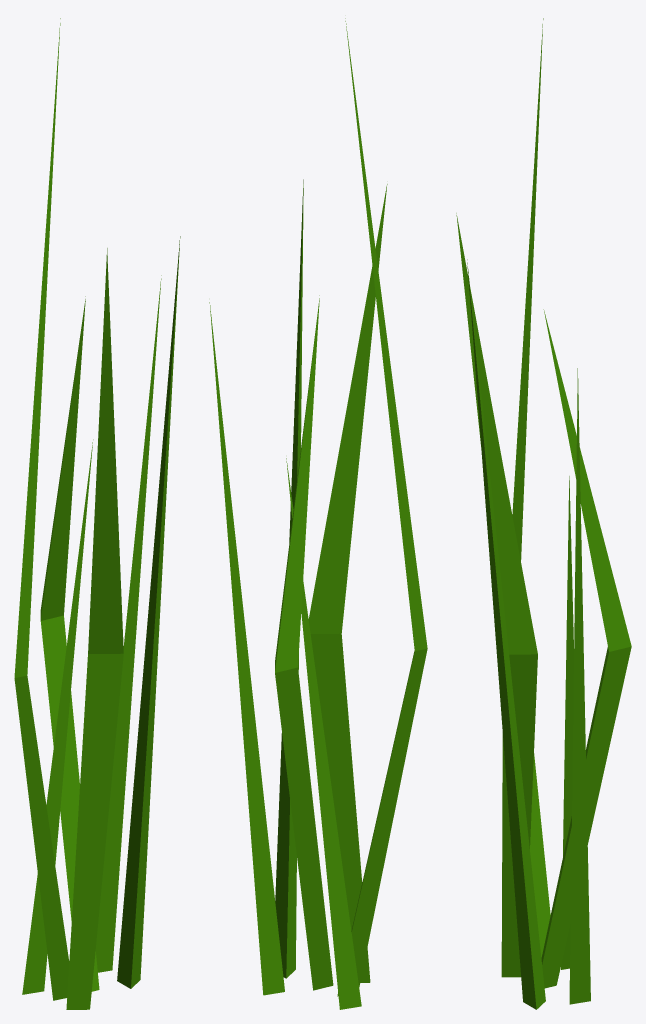
The model's file is Grass_5.fbx.
The picture shows the model from 3 angles, left to right: view 1: azimuth 30°, elevation 25°; view 2: azimuth 150°, elevation 25°; view 3: azimuth 270°, elevation 25°; orthographic projection. The views are drawn at different scales.
Visible parts, largest first — view 1: Grass 5_LOD0; view 2: Grass 5_LOD0; view 3: Grass 5_LOD0.
Part boxes in pixels (x1,y1,x2,y2): Grass 5_LOD0: (14, 18, 180, 1009); Grass 5_LOD0: (209, 18, 427, 1009); Grass 5_LOD0: (456, 18, 631, 1009).
Size of what is drawn, in the model's own units: 6.65 by 34.05 by 5.64.
